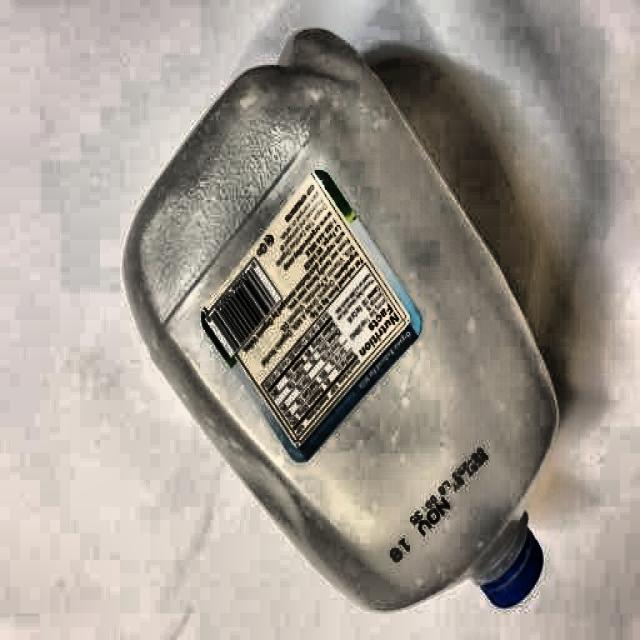plastic: (121, 28, 553, 614)
